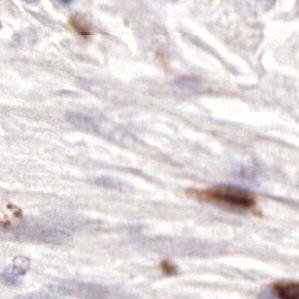Lymphocyte: (202, 181, 262, 211)
